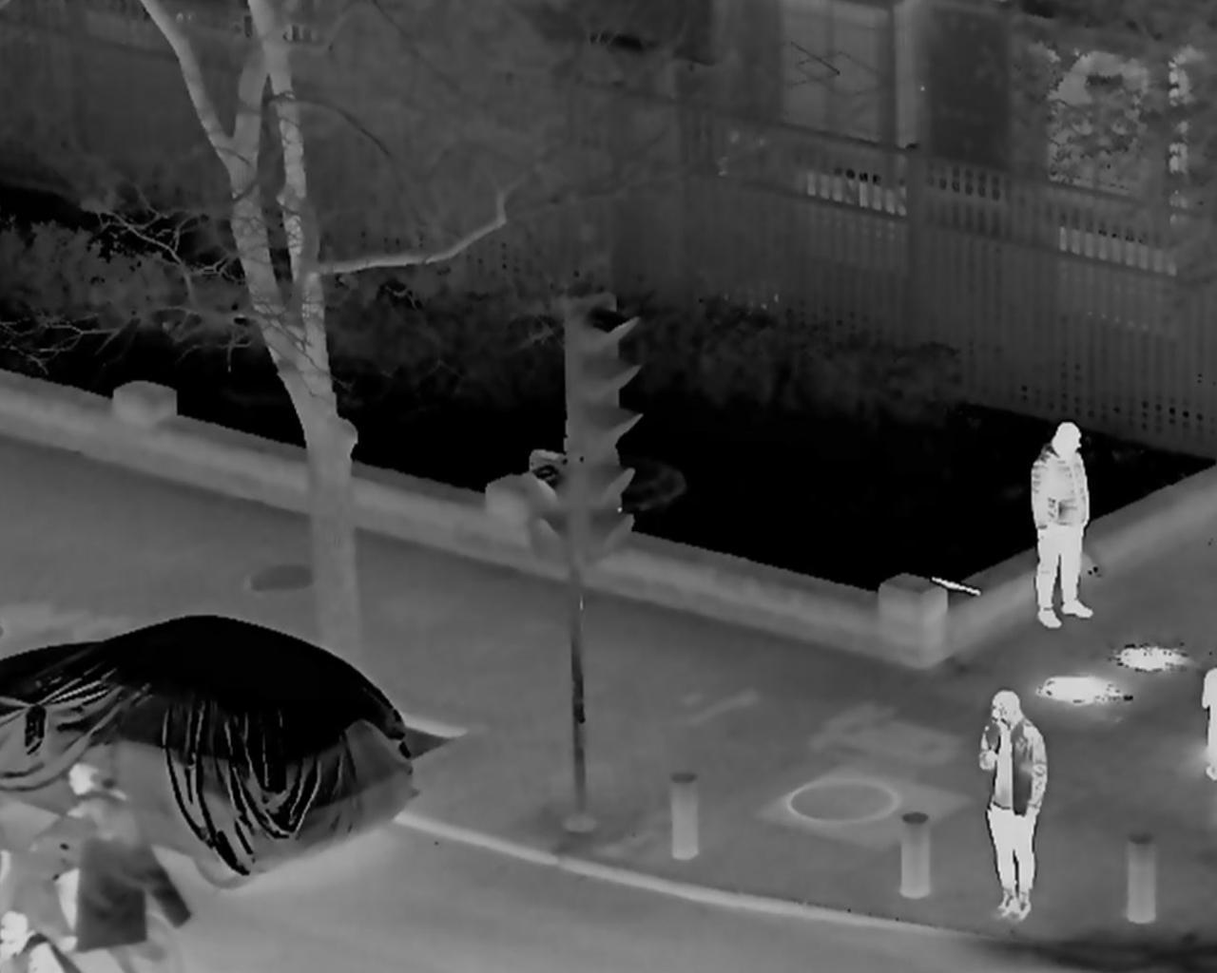person: (20, 748, 174, 951), (973, 690, 1047, 921), (1031, 424, 1099, 639)
